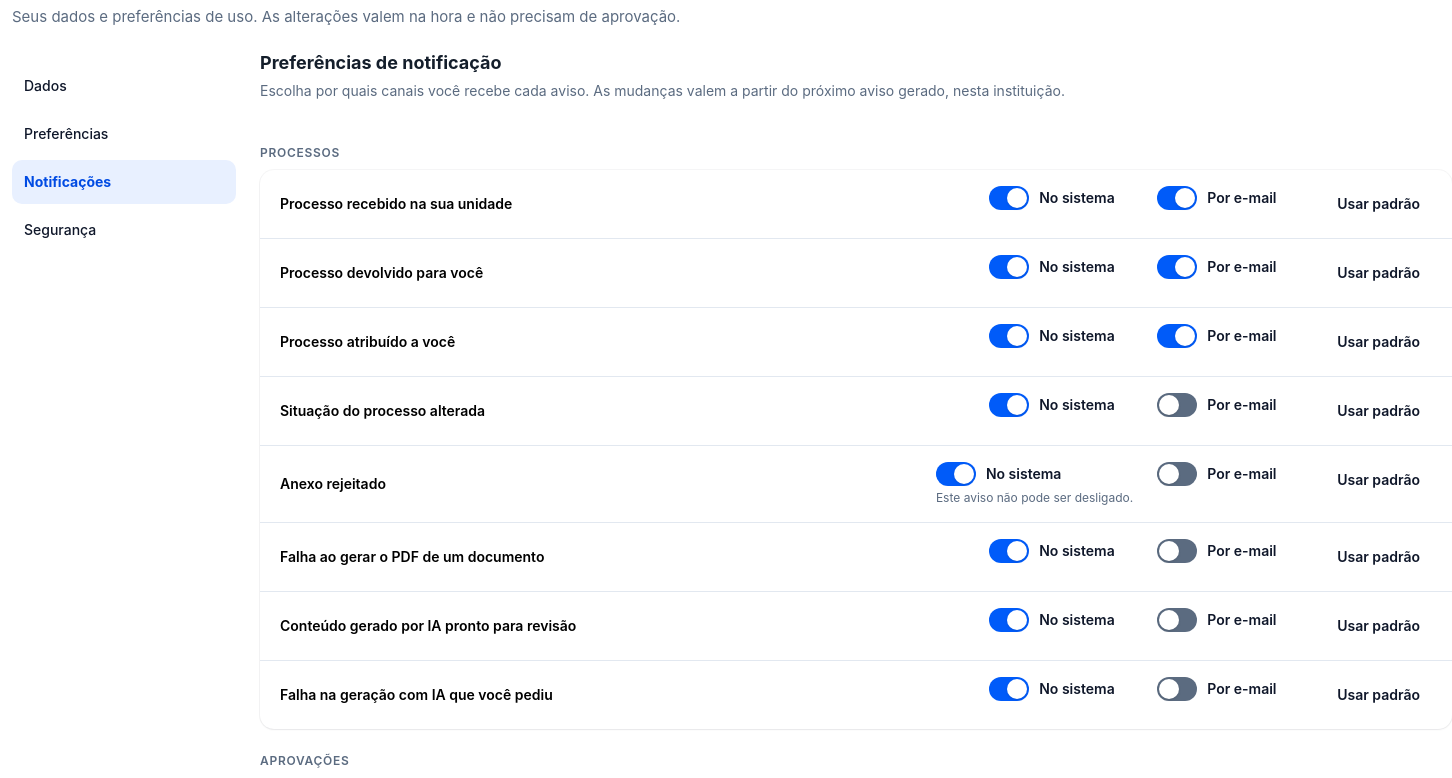
it: SCR-039 — aba Notificações (US-113) › [Sucesso] desliga o e-mail de um tipo, salva só a combinação alterada e avisa
Check: the heading "Processos" is shown, box [260,145,340,160]
Click the 2nd switch named "Por e-mail". click: [1177, 198]
box: [1157,186,1197,210]
(page scrolled)
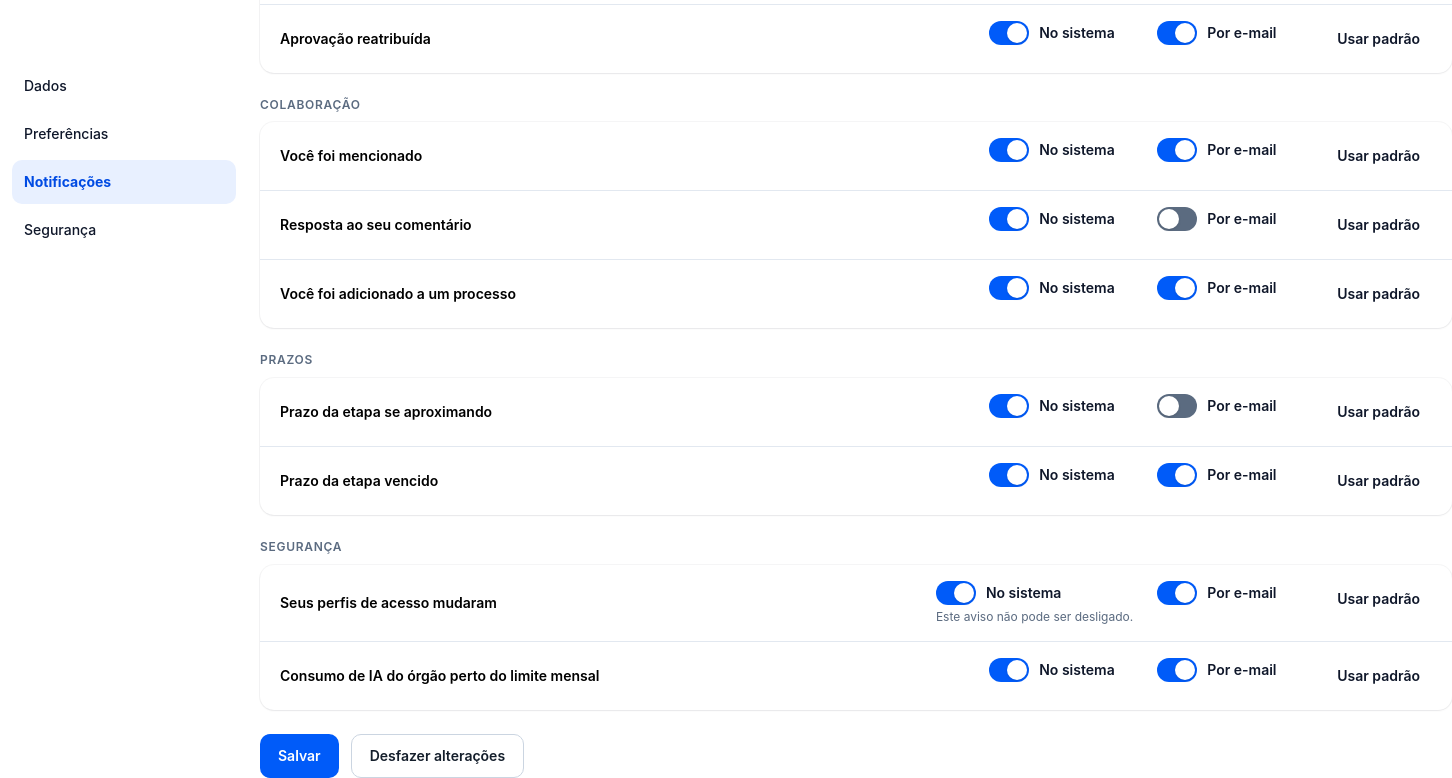
Click the button "Salvar". click: [299, 756]
box: [260,734,339,777]
(page scrolled)
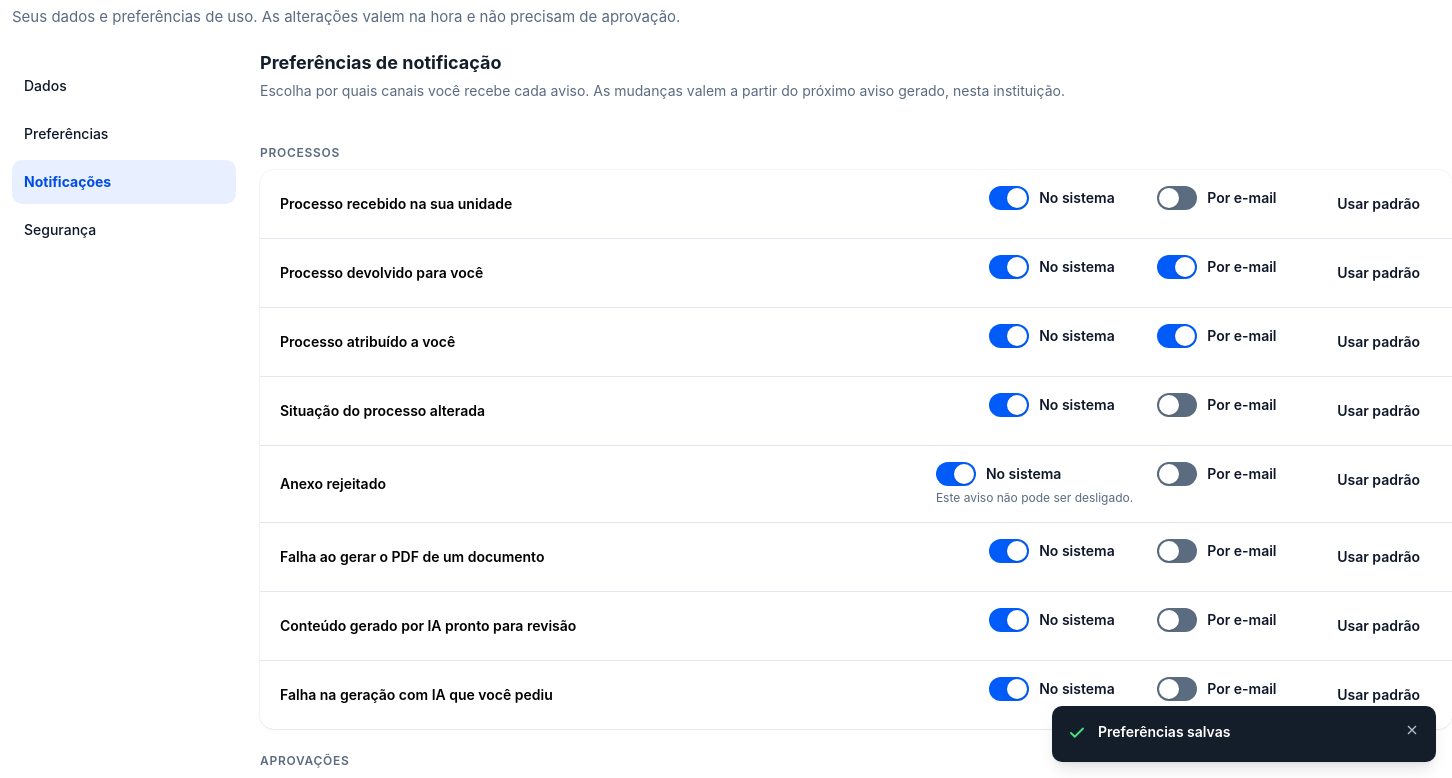
Check: the text "Preferências salvas" is shown, box [1098,723,1230,740]
